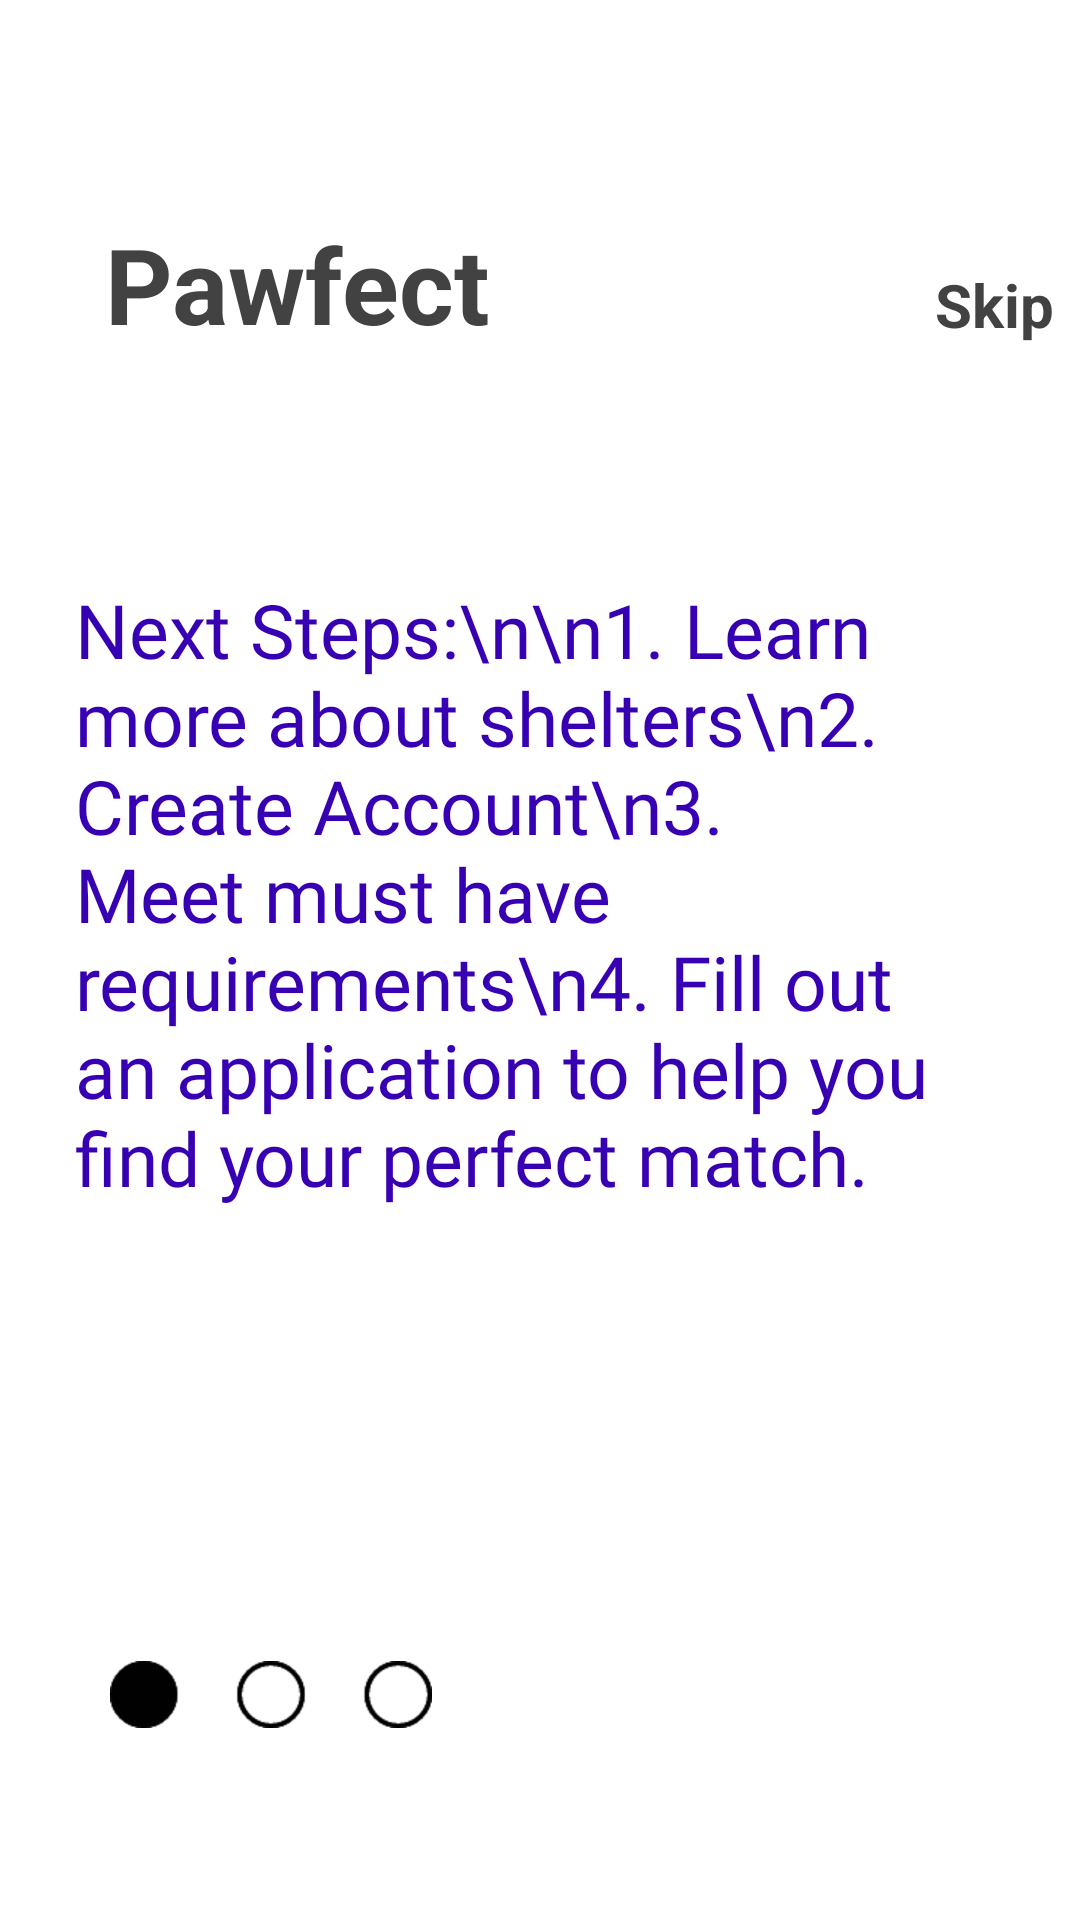

Icon bounding boxes for this 1080px×1920px phone screenshot, format (x1, y1, x2, y2):
tab: (110, 1661, 432, 1728)
